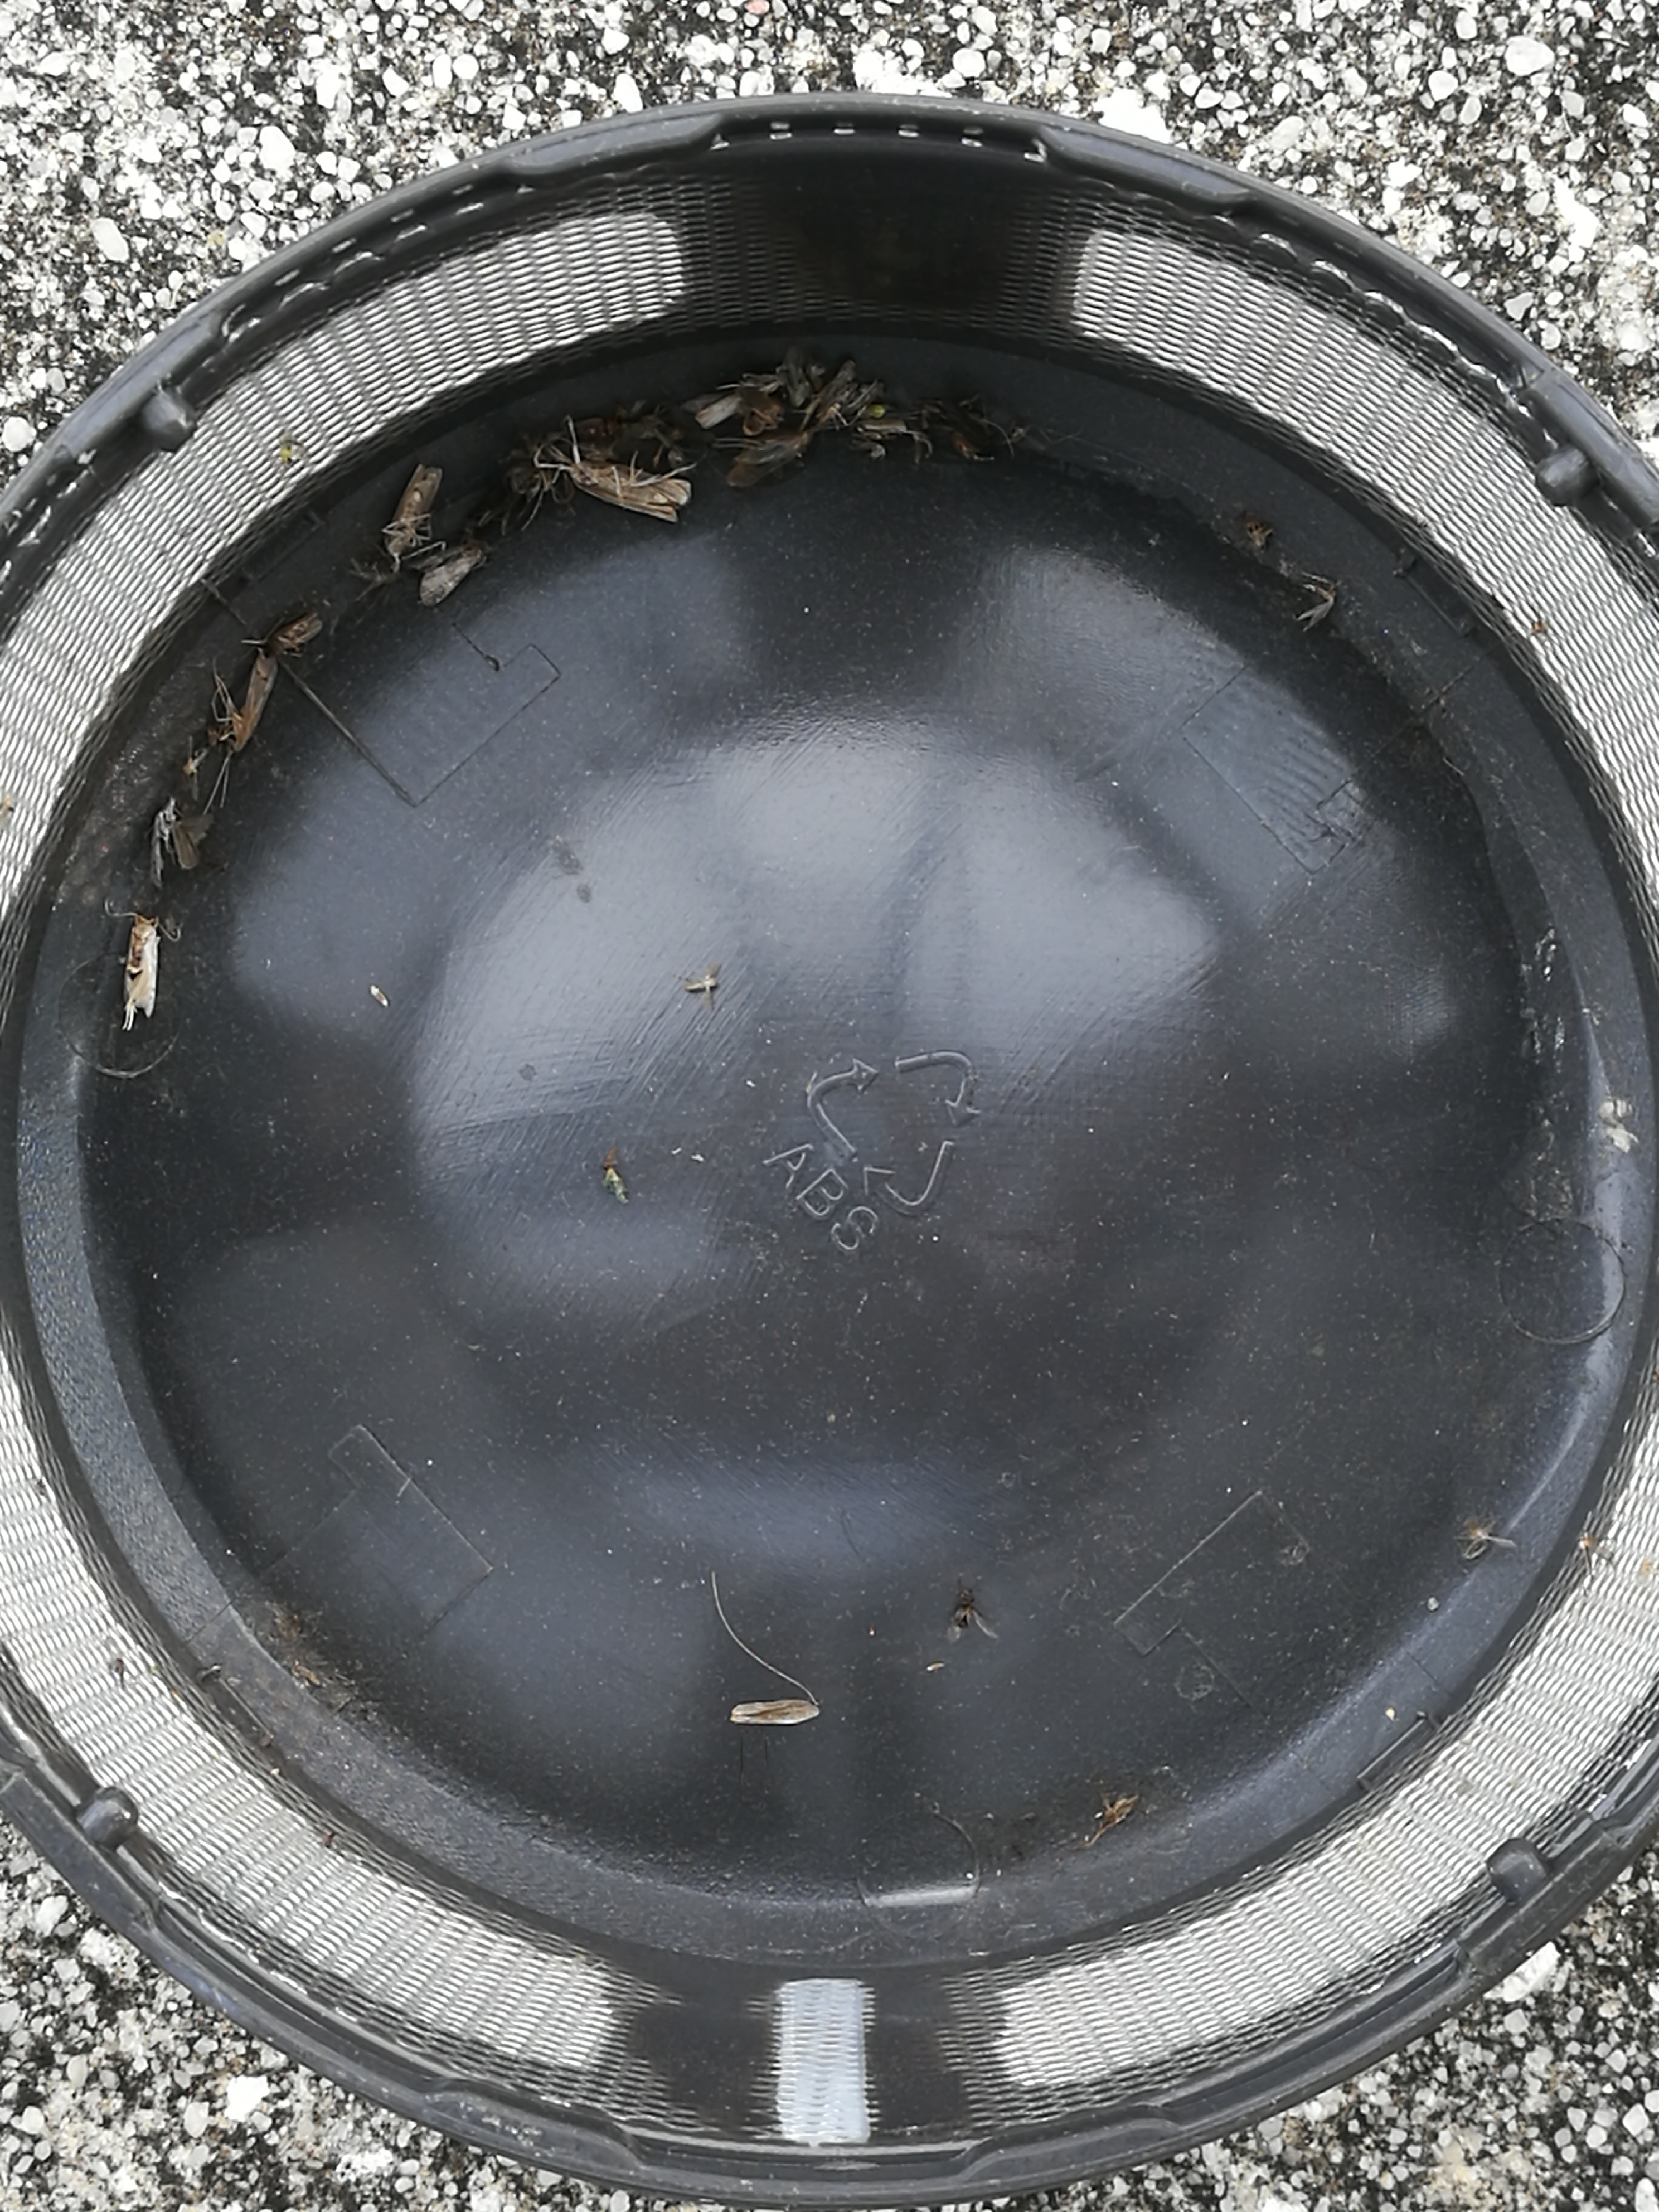mosquito: (572, 460, 692, 521), (387, 465, 443, 557), (230, 655, 274, 754), (124, 918, 159, 1021)
moth: (709, 430, 812, 488), (150, 799, 211, 887), (410, 540, 488, 606), (817, 359, 884, 427)
